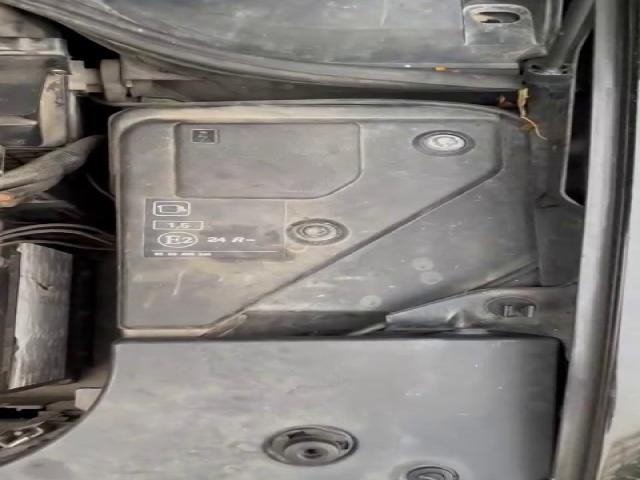accumulator: (1, 220, 99, 393)
fuse_box: (118, 101, 554, 335)
